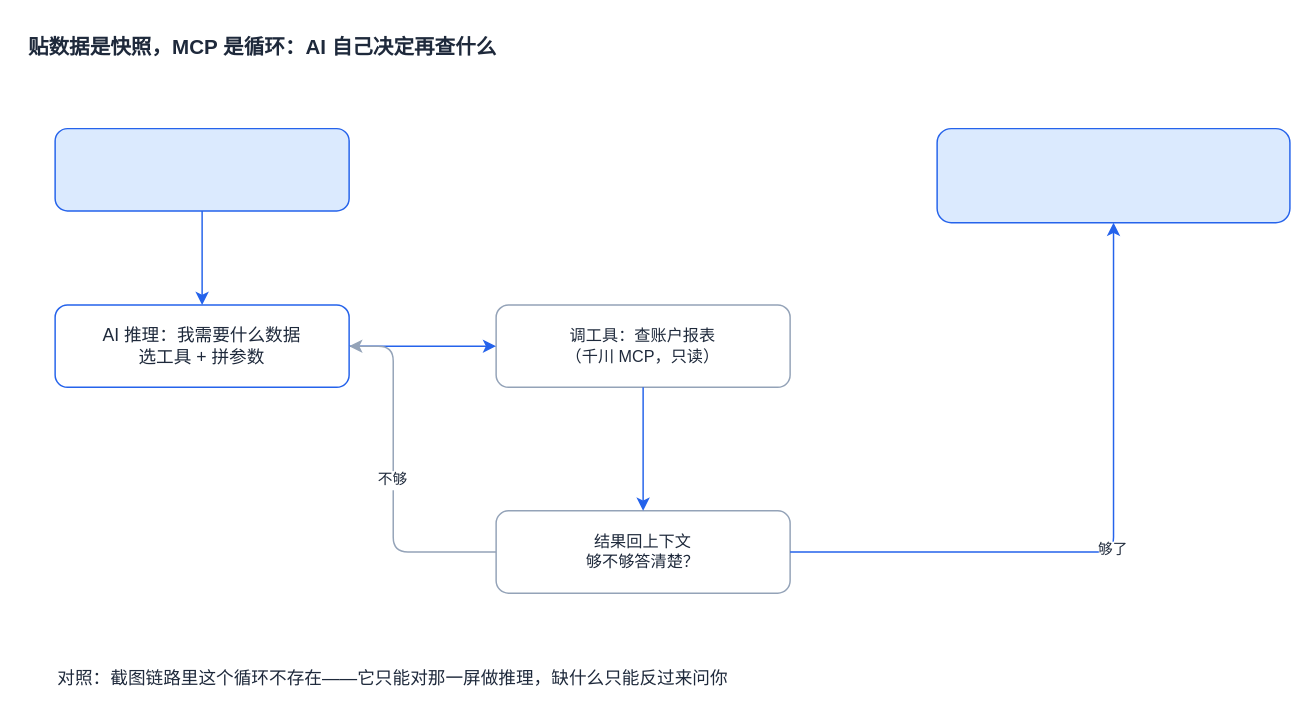
Some shapes in this 1316 by 713 pixel diagram are drawn without their labels. Each missing label, with the centre of its shape:
不够 → 再调一次（循环） 够了 → 交付：七天基线对比 + 异常清单: the point at 1113,175
你提一个模糊的问题 「最近投流有什么异常」: the point at 201,169
